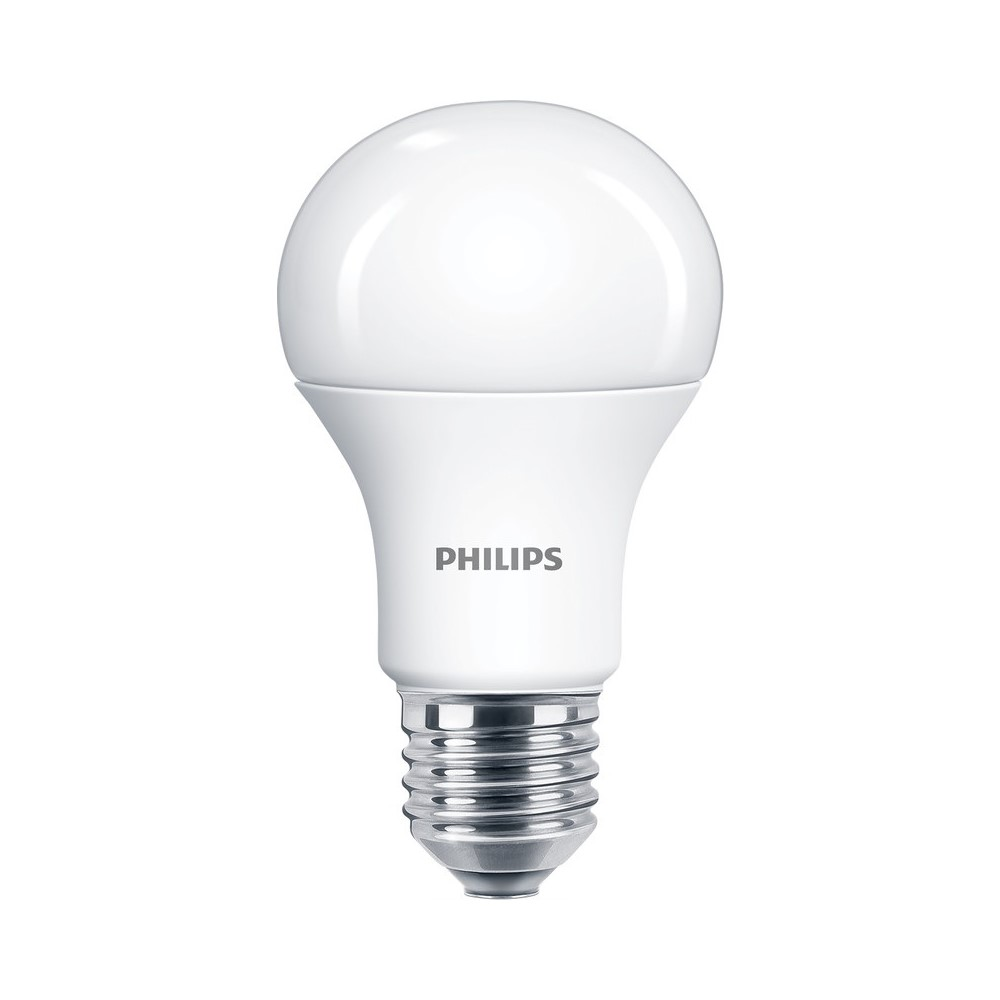Light bulb: (270, 95, 735, 916)
